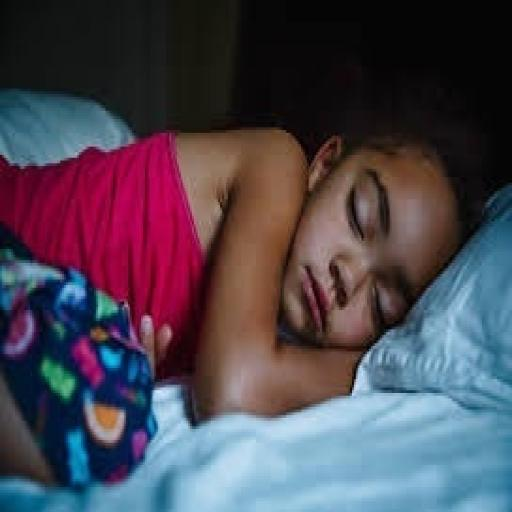sleeping: (0, 105, 467, 490)
